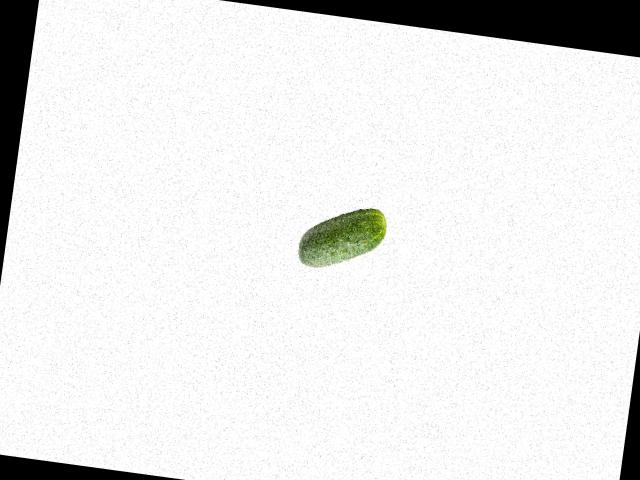cucumber: (295, 199, 388, 276)
